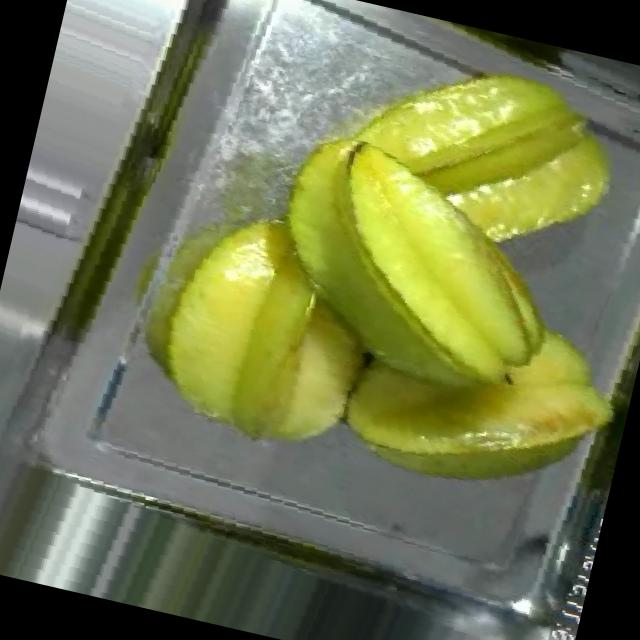fruit: (210, 88, 606, 474), (317, 10, 640, 291)
